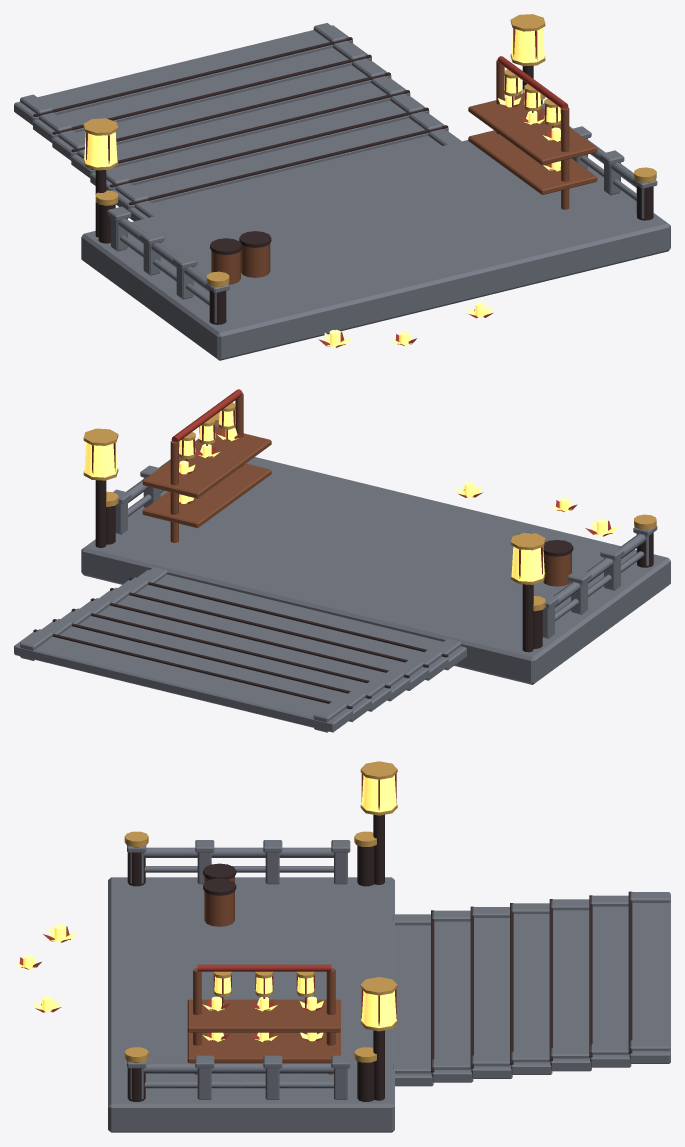
The model's file is model-quay.glb.
The picture shows the model from 3 angles, top to bottom: view 1: azimuth 30°, elevation 25°; view 2: azimuth 150°, elevation 25°; view 3: azimuth 270°, elevation 25°; orthographic projection. The views are drawn at different scales.
Visible parts, largest first — view 1: model-quay; view 2: model-quay; view 3: model-quay.
Boxes of the visible parts, x1,y1,x2,y2 form: model-quay: (14, 14, 670, 360); model-quay: (14, 389, 670, 732); model-quay: (14, 761, 670, 1132).
Bounding box in the file's own units: 8.58 × 2.47 × 10.3.
